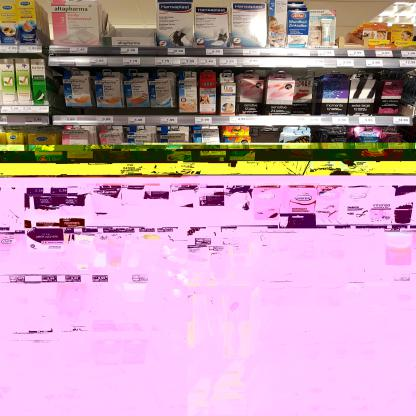Void: (103, 1, 159, 49), (337, 6, 360, 49), (250, 126, 280, 143)
